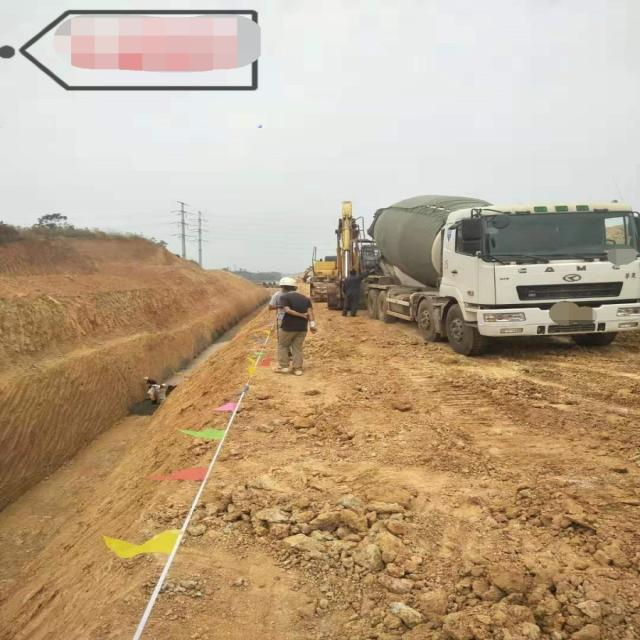excavator: (308, 201, 380, 311)
